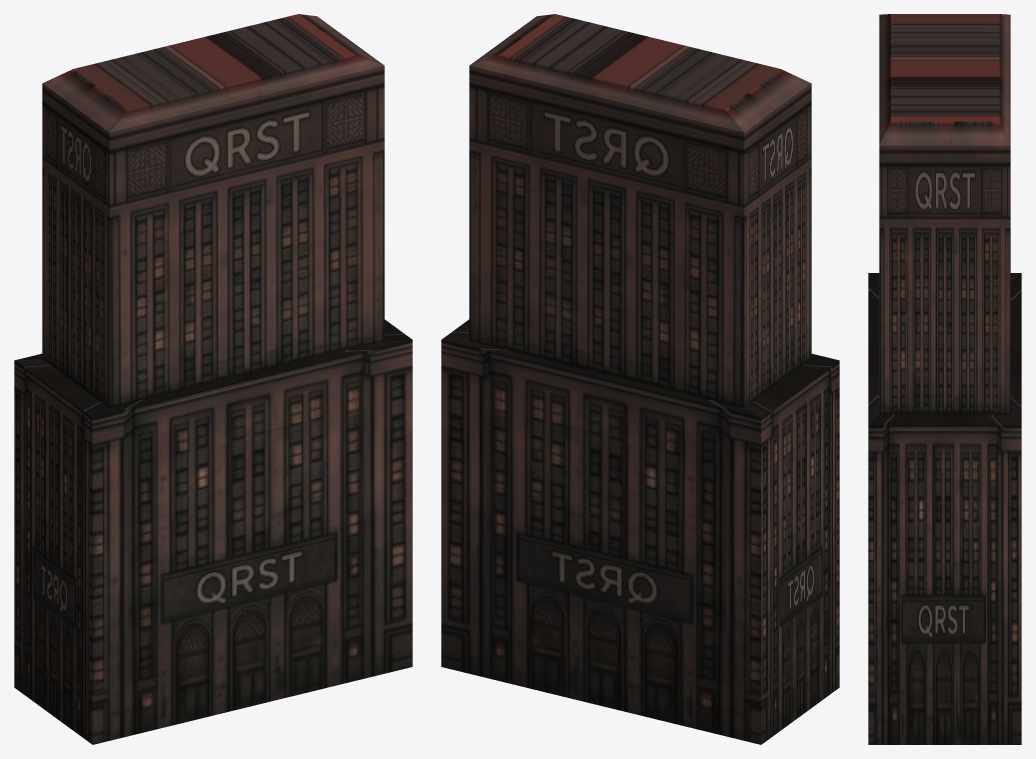
Rendered from QRST Building.fbx.
3 renders of one model, left to right at view 1: azimuth 30°, elevation 25°; view 2: azimuth 150°, elevation 25°; view 3: azimuth 270°, elevation 25°, orthographic. The views are drawn at different scales.
Parts seen in each view (by area): view 1: Building4.002; view 2: Building4.002; view 3: Building4.002.
Part boxes in pixels (<box>): Building4.002: <box>14,14,412,744</box>; Building4.002: <box>441,14,839,744</box>; Building4.002: <box>868,14,1021,744</box>.
Bounding box in the file's own units: 1070 × 454 × 1968.
Materials: 1 (1 with a texture image).
